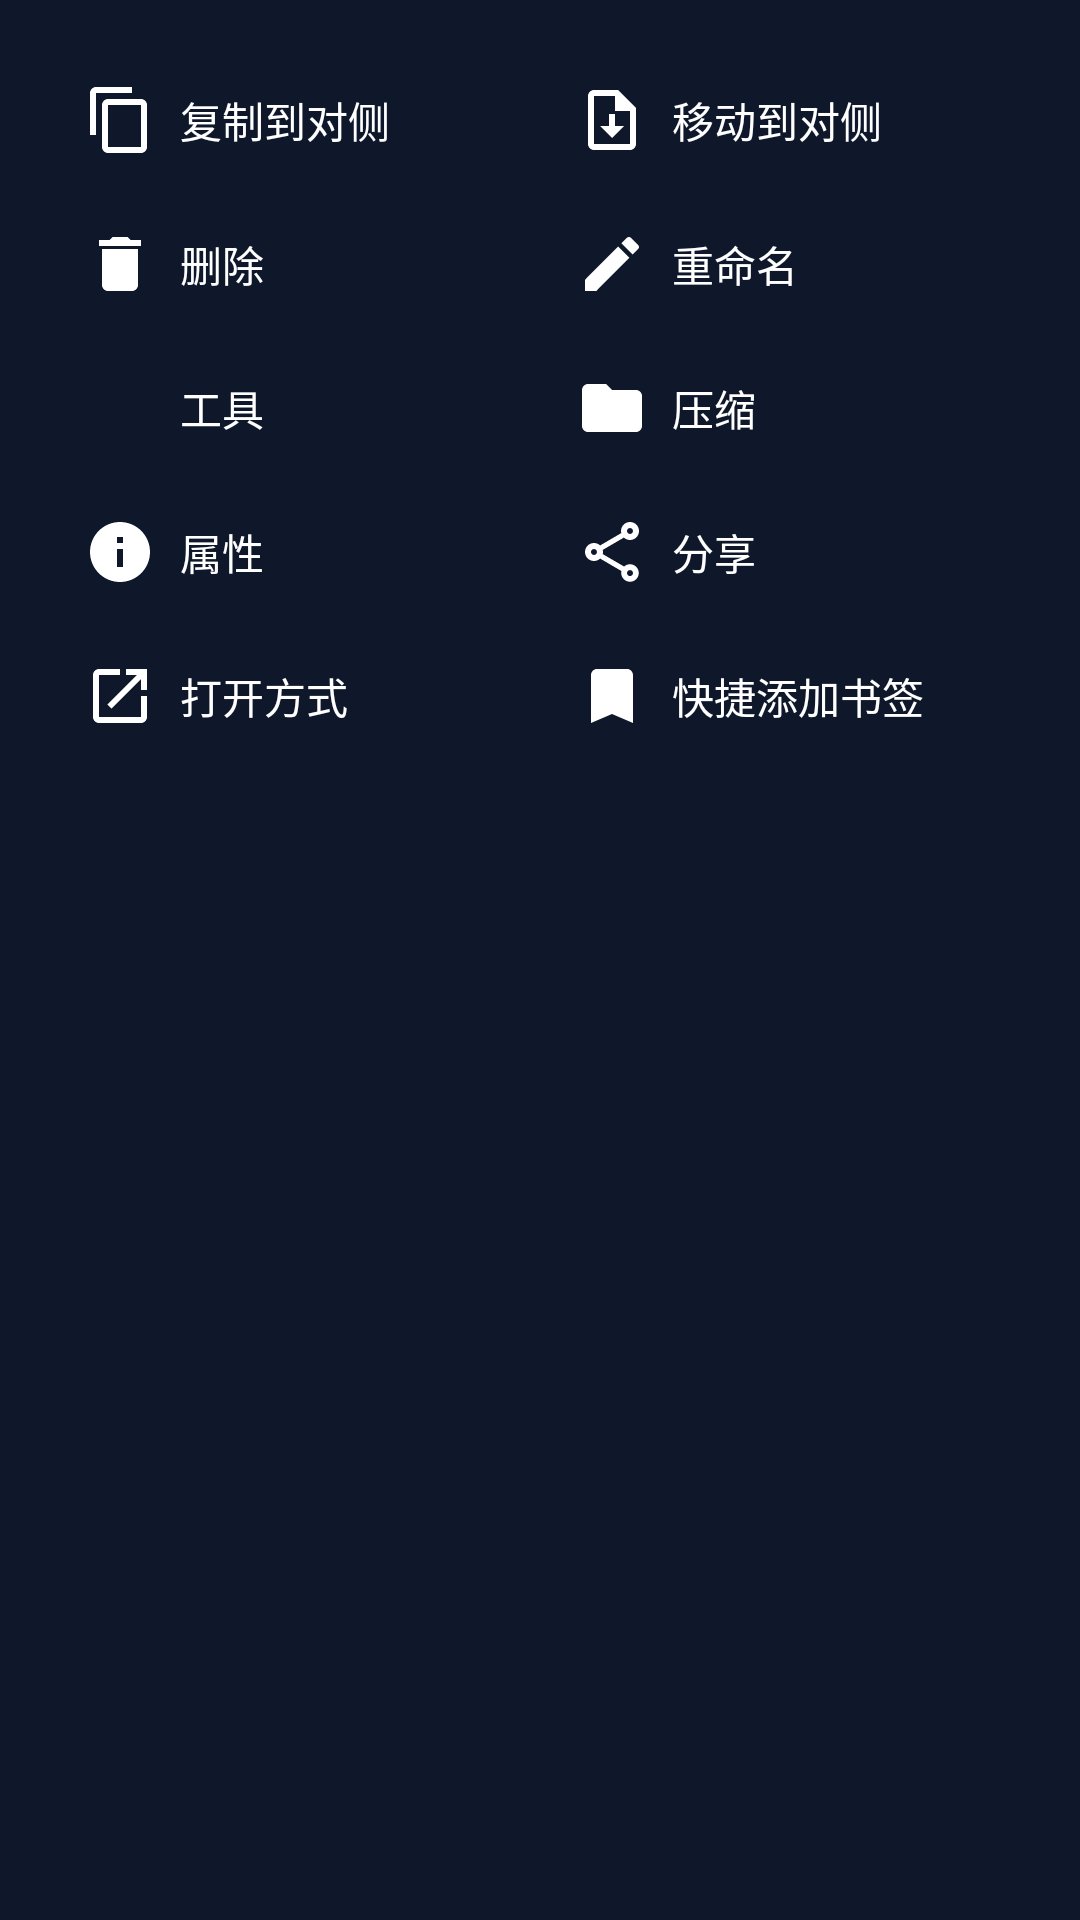

Point at icon controls on the screen. Image size 1080 × 1920, points as (x,y).
edit: (612,264)
info: (120,552)
